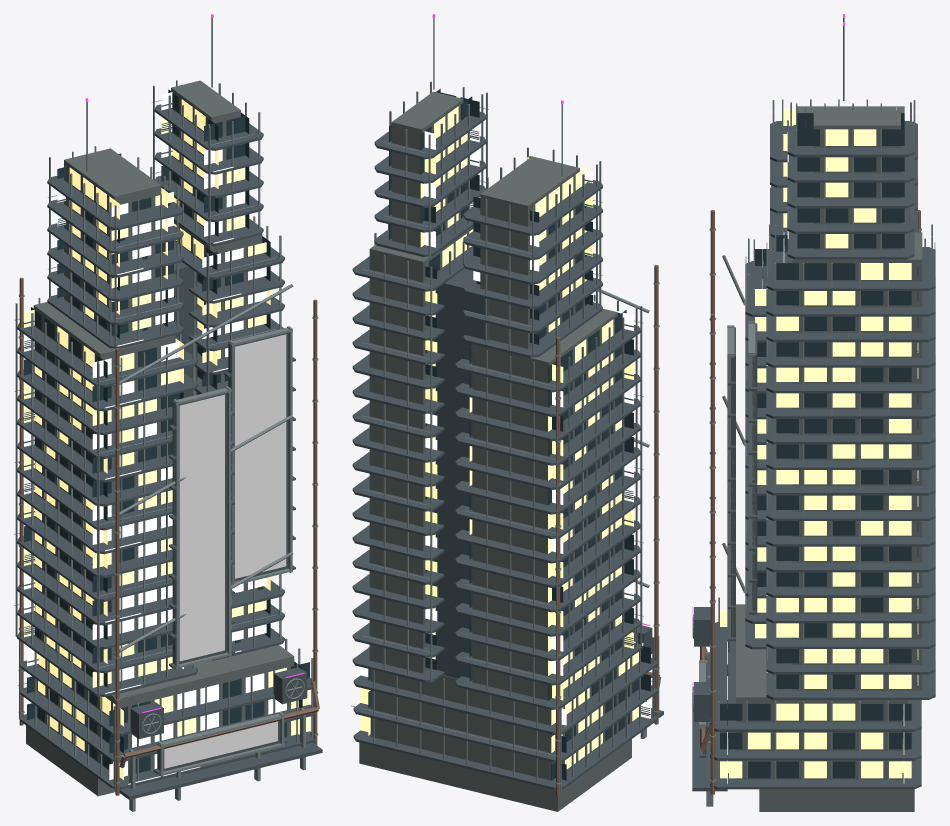
Rendered from exchange.glb.
3 views of the same model, side by side, from view 1: azimuth 30°, elevation 25°; view 2: azimuth 150°, elevation 25°; view 3: azimuth 270°, elevation 25° (orthographic). The views are drawn at different scales.
Parts seen in each view (by area): view 1: exchange-Armor, exchange-Edge, exchange-Concrete, exchange-Glass, exchange-Warm, exchange-AdPortrait, exchange-AdVertical, exchange-Pearl, exchange-Copper, exchange-AdStrip; view 2: exchange-Armor, exchange-Concrete, exchange-Edge, exchange-Glass, exchange-Warm, exchange-Copper, exchange-Pearl; view 3: exchange-Armor, exchange-Concrete, exchange-Warm, exchange-Glass, exchange-Edge, exchange-Copper.
Part boxes in pixels (left/top/right/bottom): exchange-Armor: left=17, top=103, right=322, bottom=799; exchange-Edge: left=14, top=18, right=318, bottom=811; exchange-Concrete: left=26, top=80, right=294, bottom=796; exchange-Glass: left=24, top=89, right=309, bottom=773; exchange-Warm: left=24, top=99, right=309, bottom=779; exchange-AdPortrait: left=235, top=334, right=286, bottom=578; exchange-AdVertical: left=179, top=394, right=224, bottom=661; exchange-Pearl: left=24, top=92, right=286, bottom=784; exchange-Copper: left=19, top=277, right=319, bottom=795; exchange-AdStrip: left=164, top=721, right=277, bottom=768; exchange-Armor: left=352, top=111, right=663, bottom=789; exchange-Concrete: left=359, top=91, right=634, bottom=811; exchange-Edge: left=351, top=18, right=660, bottom=790; exchange-Glass: left=368, top=88, right=650, bottom=780; exchange-Warm: left=360, top=106, right=643, bottom=769; exchange-Copper: left=556, top=265, right=661, bottom=796; exchange-Pearl: left=360, top=126, right=650, bottom=725; exchange-Armor: left=692, top=121, right=935, bottom=791; exchange-Concrete: left=736, top=106, right=922, bottom=811; exchange-Warm: left=720, top=109, right=918, bottom=783; exchange-Glass: left=720, top=107, right=918, bottom=778; exchange-Edge: left=692, top=18, right=935, bottom=806; exchange-Copper: left=700, top=210, right=920, bottom=794.
Bounding box in the file's own units: 36 × 120 × 34.5.
